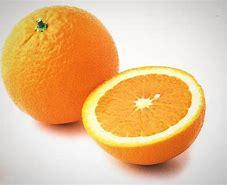orange: (12, 4, 124, 131), (77, 62, 207, 163)
